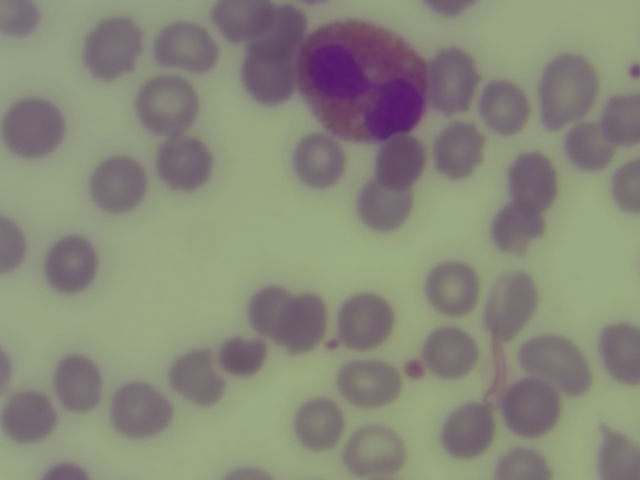Platelets: (403, 358, 427, 382), (624, 59, 640, 84), (324, 334, 340, 355)
RBC: (486, 268, 538, 342), (338, 357, 403, 406), (522, 337, 586, 384), (428, 261, 480, 315), (588, 426, 640, 480), (506, 381, 558, 435), (441, 403, 493, 457), (423, 325, 475, 379), (351, 426, 403, 480), (293, 396, 345, 450), (337, 294, 389, 348), (358, 181, 410, 235), (280, 296, 332, 350), (215, 332, 267, 386), (169, 351, 221, 405), (114, 382, 166, 436), (50, 356, 102, 410), (490, 202, 542, 256), (506, 152, 558, 206), (562, 118, 614, 172), (542, 59, 594, 113), (479, 80, 531, 134), (432, 123, 484, 177), (428, 52, 480, 106), (43, 237, 95, 291), (92, 158, 144, 212), (293, 134, 345, 188), (160, 134, 212, 188), (138, 78, 190, 132), (6, 99, 58, 153), (241, 50, 293, 104), (249, 4, 301, 58), (155, 19, 207, 73), (86, 21, 138, 75), (1, 392, 52, 446), (597, 321, 640, 385), (597, 93, 640, 151), (246, 280, 292, 334), (378, 137, 424, 185), (606, 157, 640, 218), (217, 1, 267, 37), (1, 217, 29, 276), (496, 447, 546, 480), (1, 1, 41, 39)
WBC: (303, 21, 425, 140)
